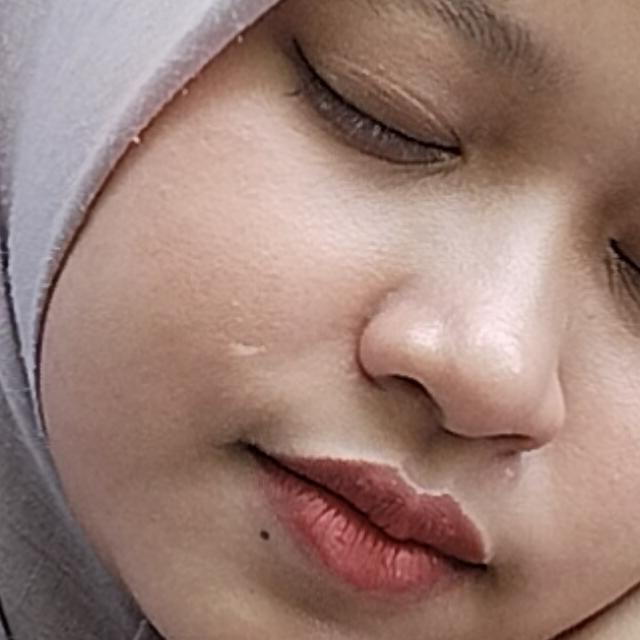tidur: (126, 218, 640, 640)
